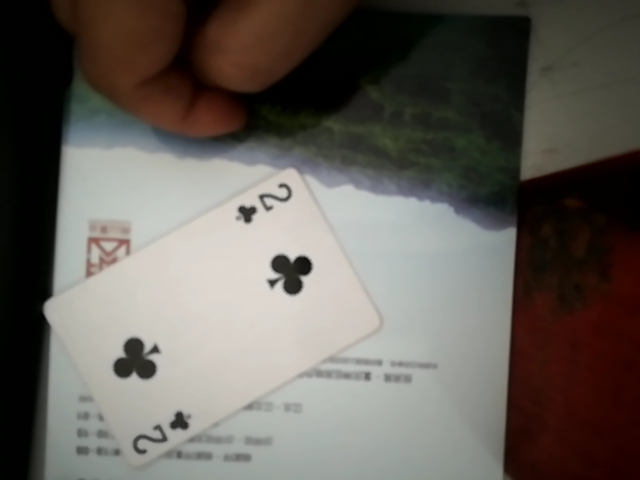mh 2: (56, 158, 378, 451)
